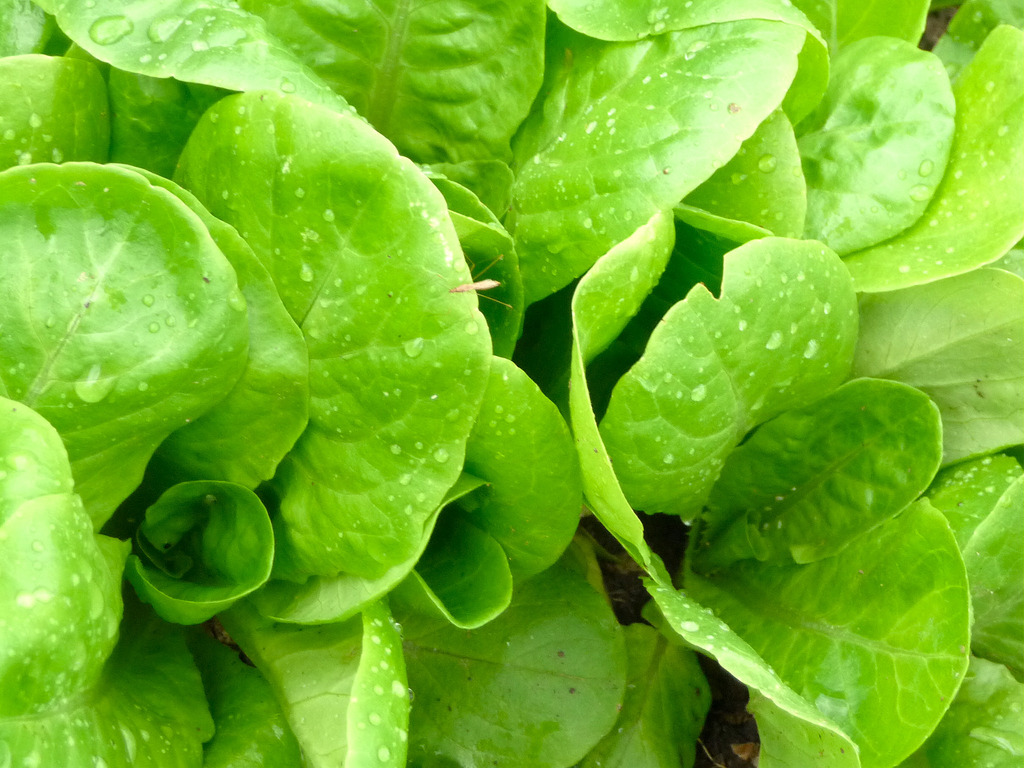chopped lettuce: (48, 13, 908, 692)
